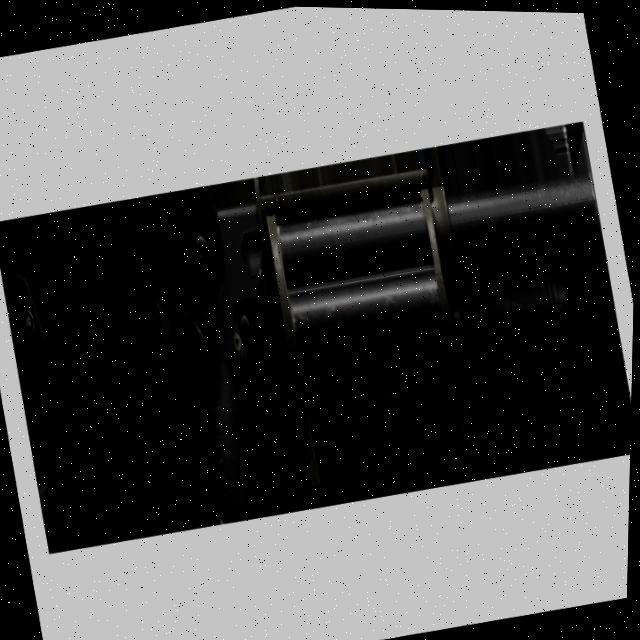rocket: (0, 110, 638, 566)
